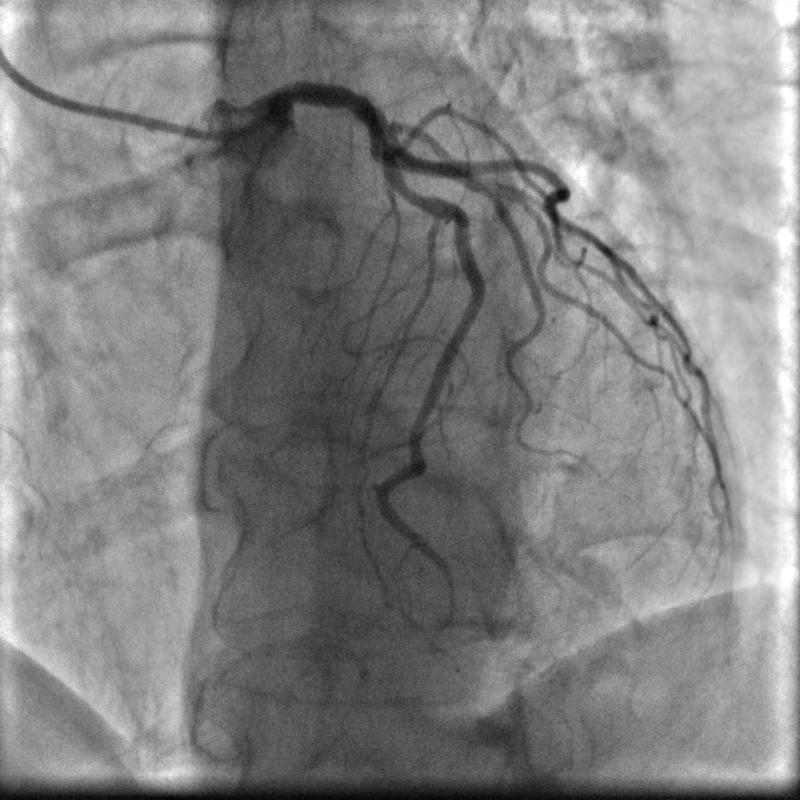Stenosis: (391, 177, 425, 205)
